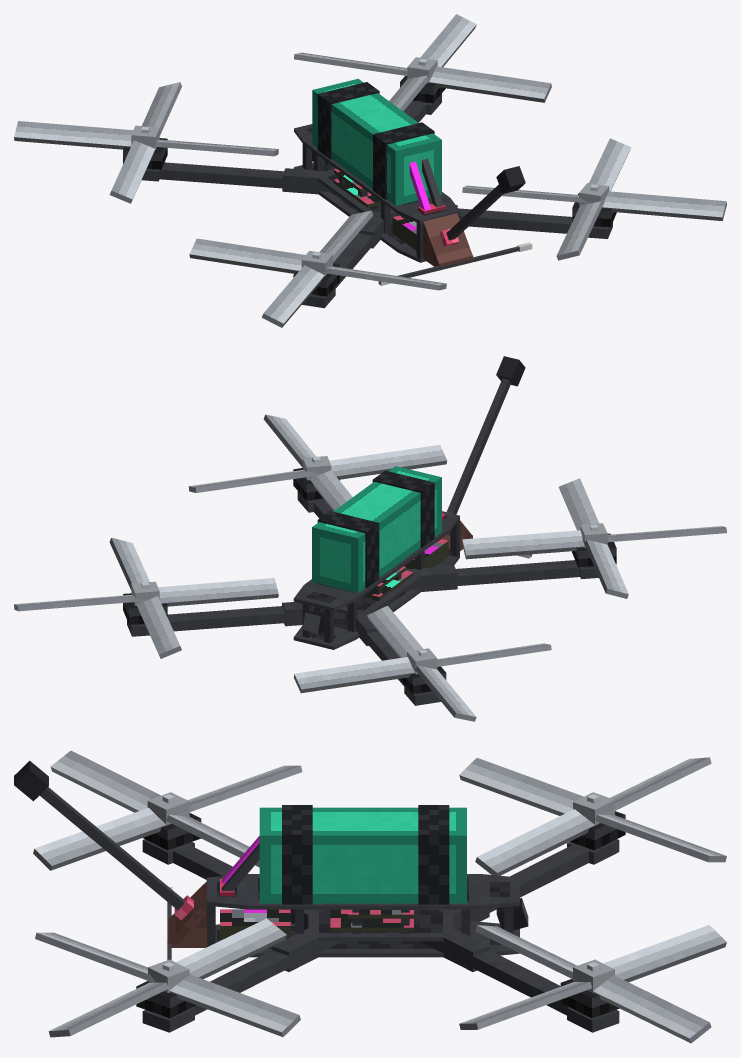
The model's file is fpv_racer.glb.
3 views of the same model, one above another, from view 1: azimuth 30°, elevation 25°; view 2: azimuth 150°, elevation 25°; view 3: azimuth 270°, elevation 25° (orthographic). The views are drawn at different scales.
Parts seen in each view (by area): view 1: airframe, prop4, prop1, prop3, prop2; view 2: airframe, prop1, prop2, prop4, prop3; view 3: airframe, prop1, prop3, prop2, prop4.
Boxes of the visible parts, bbox=[...] form: airframe: bbox=[123, 58, 616, 308]; prop4: bbox=[189, 210, 446, 327]; prop1: bbox=[14, 82, 278, 203]; prop3: bbox=[462, 138, 726, 260]; prop2: bbox=[294, 14, 551, 111]; airframe: bbox=[123, 356, 616, 705]; prop1: bbox=[293, 605, 551, 721]; prop2: bbox=[14, 537, 278, 658]; prop4: bbox=[462, 478, 726, 598]; prop3: bbox=[188, 414, 447, 510]; airframe: bbox=[14, 760, 625, 1032]; prop1: bbox=[459, 757, 726, 875]; prop3: bbox=[35, 918, 300, 1037]; prop2: bbox=[459, 925, 726, 1043]; prop4: bbox=[33, 750, 302, 870].
Bounding box in the file's own units: 0.9419 × 0.2761 × 1.01.
Materials: 1 (1 with a texture image).
